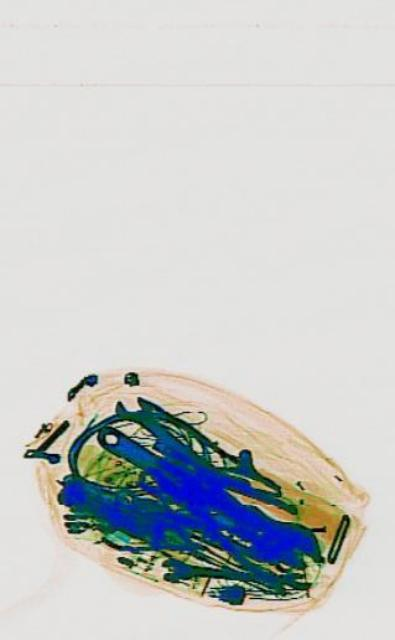Wrench: (90, 400, 327, 590), (112, 381, 235, 502)
